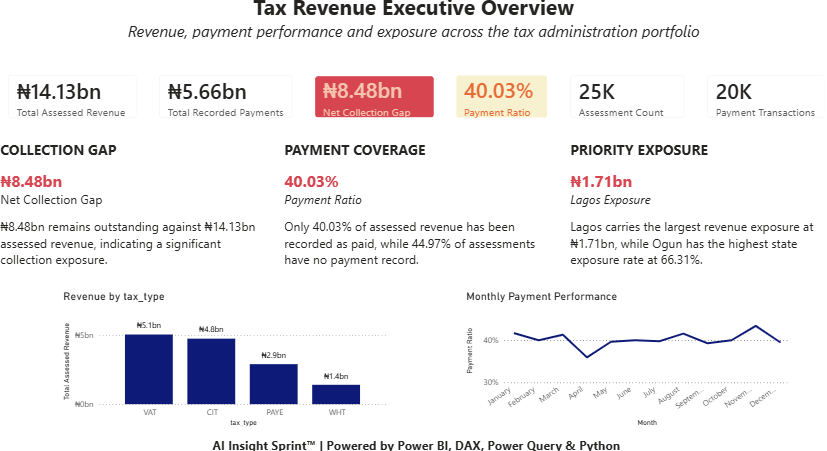

Layout of this report page (visuals, bound fields, positions):
{"tool":"powerbi","page":{"name":"Executive Overview","canvas":[1280,720],"ordinal":0},"visuals":[{"type":"cardVisual","fields":{"Data":["Measure1.Total Assessed Revenue"]},"box":[0,120.6,230.3,99.2],"z":0},{"type":"cardVisual","fields":{"Data":["Measure1.Payment Ratio"]},"box":[683.4,120.5,173.9,99.2],"z":1000},{"type":"cardVisual","fields":{"Data":["Measure1.Total Recorded Payments"]},"box":[230.3,120.5,238,99.2],"z":2000},{"type":"cardVisual","fields":{"Data":["Measure1.Assessment Count"]},"box":[857.3,120.5,209,99.2],"z":3000},{"type":"cardVisual","fields":{"Data":["Measure1.Outstanding Exposure"]},"box":[468.3,122,215.1,97.6],"z":4000},{"type":"cardVisual","fields":{"Data":["Measure1.Payment Transactions"]},"box":[1066.3,120.5,213.6,99.2],"z":5000},{"type":"textbox","box":[0,6.1,1279.8,80.8],"z":6000},{"type":"textbox","box":[0,232.6,411,212.7],"z":7000},{"type":"textbox","box":[432.7,232.6,412.8,212.7],"z":8000},{"type":"textbox","box":[869,232.6,411,213],"z":9000},{"type":"clusteredColumnChart","title":"Revenue by tax_type","fields":{"Category":["assessments_raw.tax_type"],"Y":["Measure1.Total Assessed Revenue"]},"box":[96.1,465.8,503.9,213.2],"z":10000},{"type":"lineChart","title":"Monthly Payment Performance","fields":{"Category":["assessments_raw.assessment_date.Variation.Date Hierarchy.Month"],"Y":["Measure1.Payment Ratio"]},"box":[710.5,465.8,503,213.2],"z":11000},{"type":"textbox","box":[0,685.3,1279.3,35.3],"z":12000}]}

Visuals, with their boxes on the page's 1280x720 design canvas (x1, y1, x2, y2). These are canvas units, not pixel positions in the 827x451 screenshot, which may show the page scaled, cropped or inside an application window:
cardVisual - Measure1.Total Assessed Revenue: left=0, top=121, right=230, bottom=220
cardVisual - Measure1.Payment Ratio: left=683, top=120, right=857, bottom=220
cardVisual - Measure1.Total Recorded Payments: left=230, top=120, right=468, bottom=220
cardVisual - Measure1.Assessment Count: left=857, top=120, right=1066, bottom=220
cardVisual - Measure1.Outstanding Exposure: left=468, top=122, right=683, bottom=220
cardVisual - Measure1.Payment Transactions: left=1066, top=120, right=1280, bottom=220
textbox: left=0, top=6, right=1280, bottom=87
textbox: left=0, top=233, right=411, bottom=445
textbox: left=433, top=233, right=846, bottom=445
textbox: left=869, top=233, right=1280, bottom=446
"Revenue by tax_type" clusteredColumnChart: left=96, top=466, right=600, bottom=679
"Monthly Payment Performance" lineChart: left=710, top=466, right=1214, bottom=679
textbox: left=0, top=685, right=1279, bottom=721
